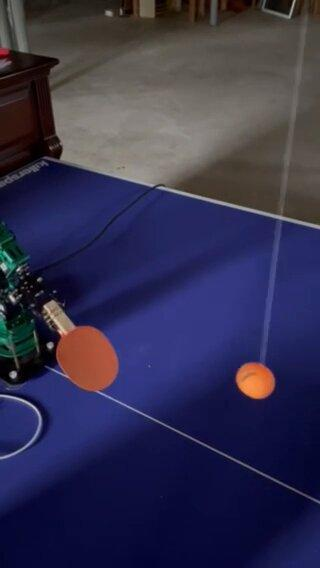oball: (235, 359, 272, 397)
